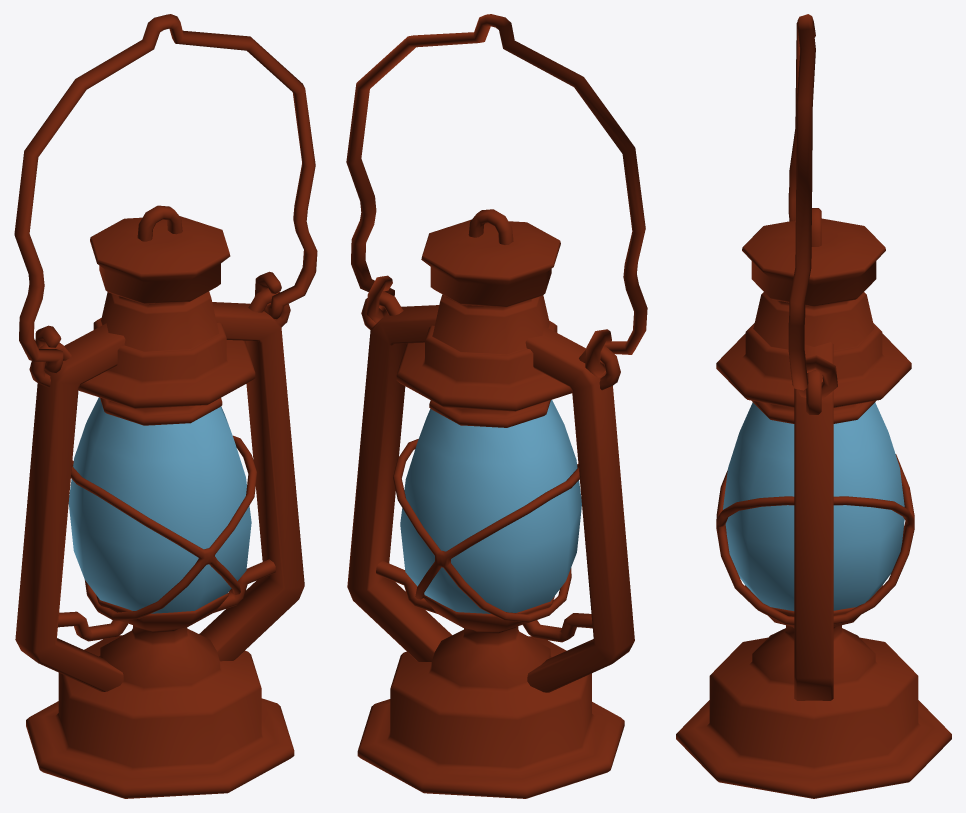
Rendered from fanalet.fbx.
The picture shows the model from 3 angles, left to right: view 1: azimuth 30°, elevation 25°; view 2: azimuth 150°, elevation 25°; view 3: azimuth 270°, elevation 25°; orthographic projection.
Parts seen in each view (by area): view 1: Lantern; view 2: Lantern; view 3: Lantern.
Part boxes in pixels (x1,y1,x2,y2): Lantern: [14, 14, 317, 798]; Lantern: [346, 14, 647, 798]; Lantern: [676, 14, 951, 798].
Bounding box in the file's own units: 464 × 1082 × 373.
